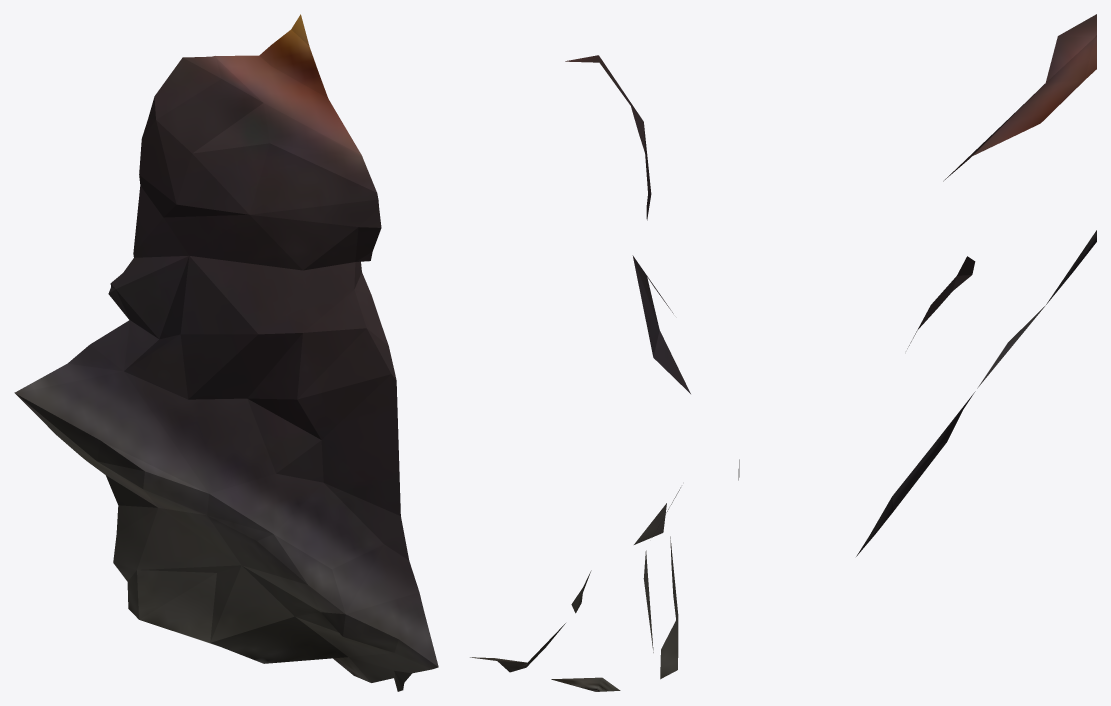
3 views of the same model, side by side, from view 1: azimuth 30°, elevation 25°; view 2: azimuth 150°, elevation 25°; view 3: azimuth 270°, elevation 25° (orthographic). The views are drawn at different scales.
Size of the model in its own units: 0.13 by 0.27 by 0.1083.
Materials: 1 (1 with a texture image).
